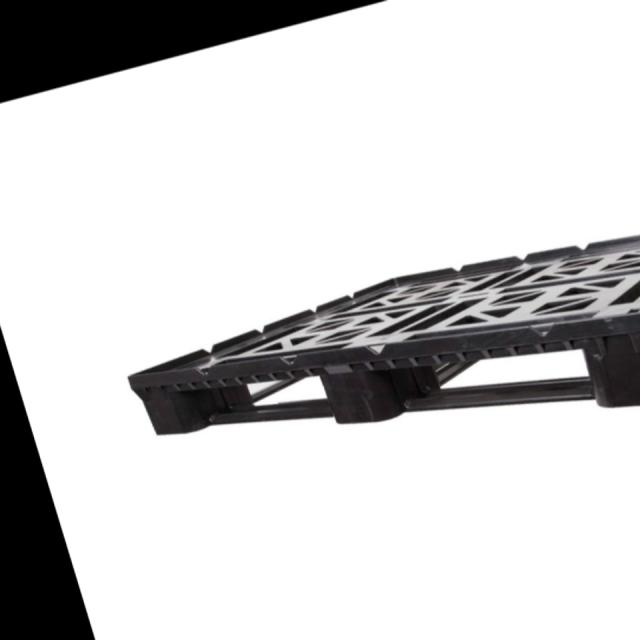non-igps: (119, 220, 640, 448)
